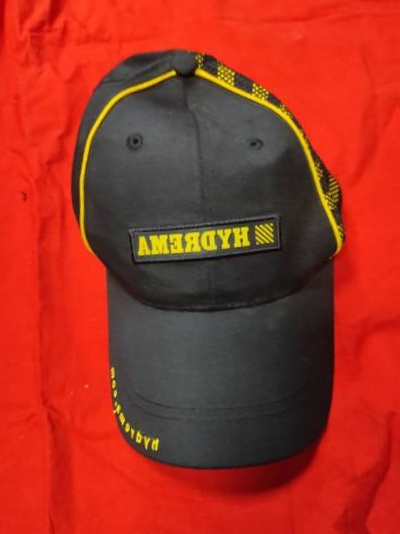Hat: (15, 23, 398, 498)
